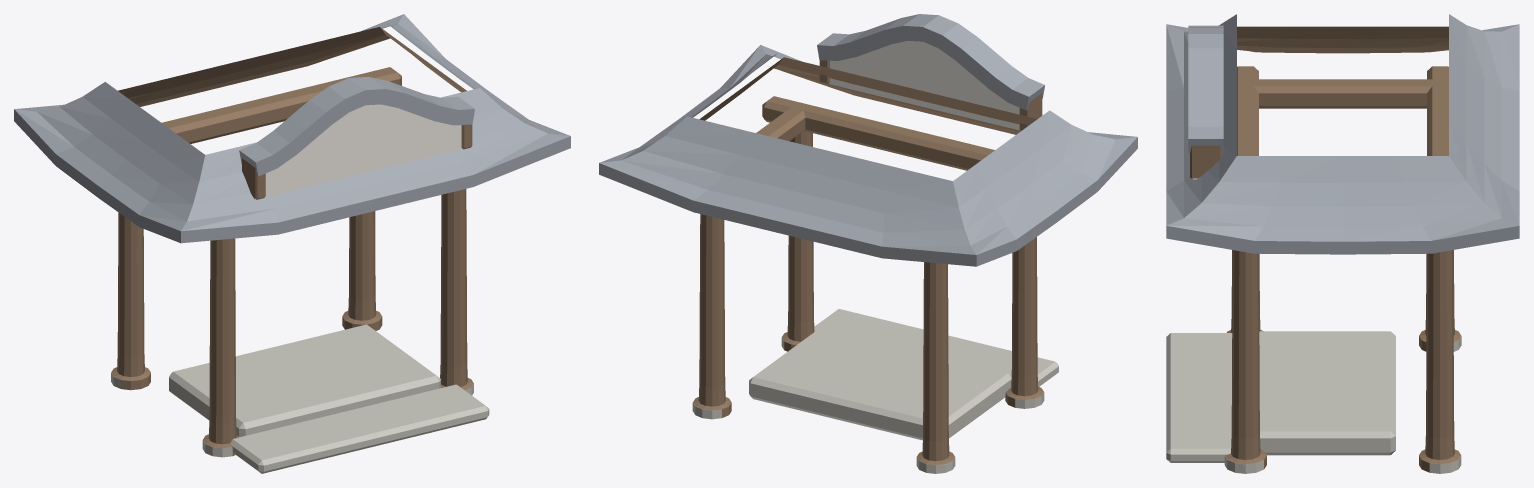
Rendered from feudal-japan-castle-town-keep-entrance-porch-ad7c65ba__26548.glb.
3 renders of one model, left to right at view 1: azimuth 30°, elevation 25°; view 2: azimuth 150°, elevation 25°; view 3: azimuth 270°, elevation 25°, orthographic. The views are drawn at different scales.
Visible parts, largest first — view 1: keep-entrance-porch; view 2: keep-entrance-porch; view 3: keep-entrance-porch.
Boxes of the visible parts, x1=… form: keep-entrance-porch: x1=14, y1=14, x2=570, y2=473; keep-entrance-porch: x1=599, y1=14, x2=1137, y2=473; keep-entrance-porch: x1=1166, y1=14, x2=1519, y2=473.
Size of the model in its own units: 5.4 by 4.64 by 4.
